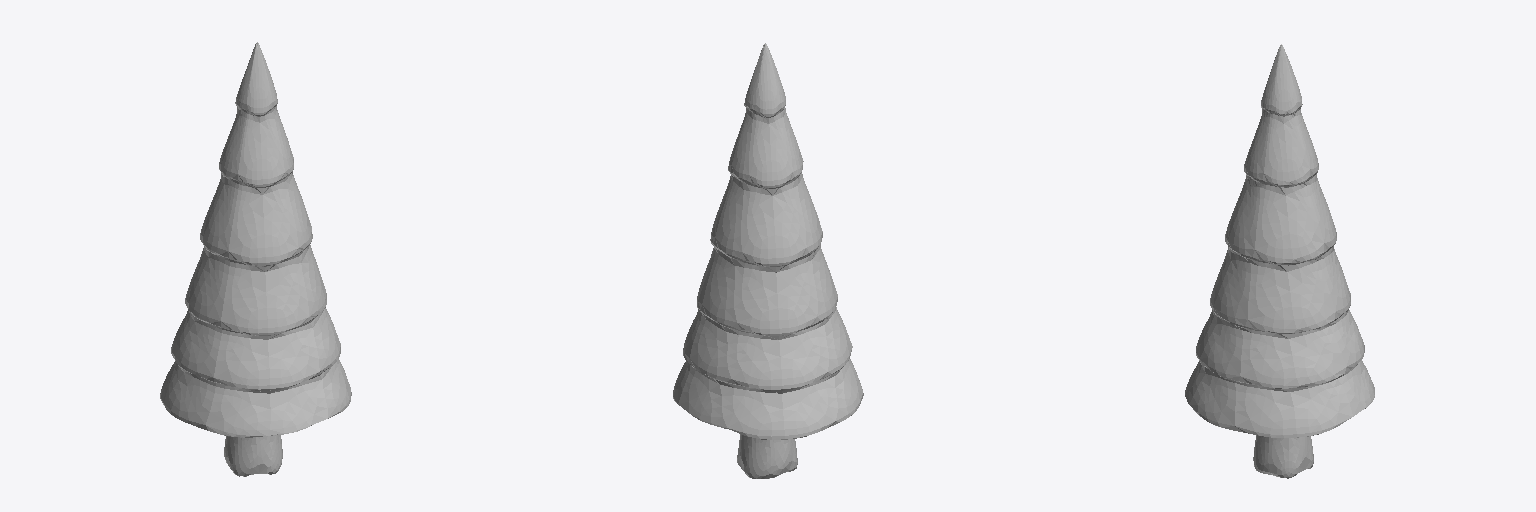
File: high_tree.obj
3 renders of one model, left to right at view 1: azimuth 30°, elevation 25°; view 2: azimuth 150°, elevation 25°; view 3: azimuth 270°, elevation 25°, orthographic.
Visible parts, largest first — view 1: Cylinder; view 2: Cylinder; view 3: Cylinder.
Part boxes in pixels (x1,y1,x2,y2): Cylinder: (160,42,351,476); Cylinder: (673,43,863,478); Cylinder: (1185,44,1374,478).
Size of the model in its own units: 2.08 by 5.11 by 2.07.